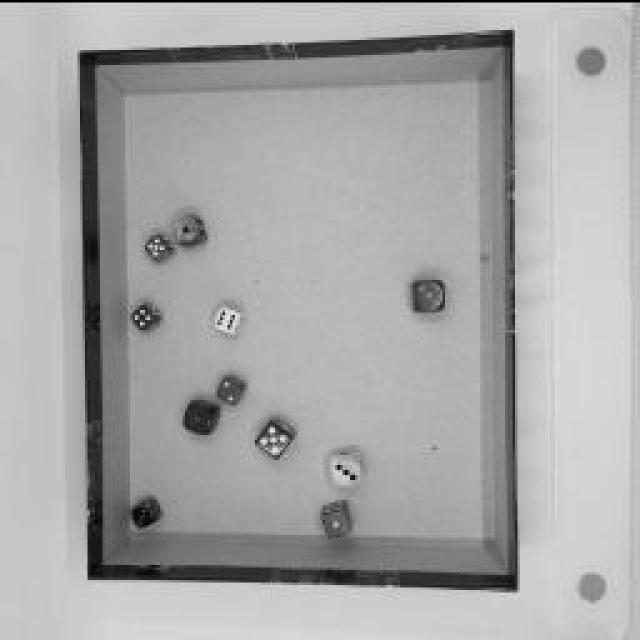dice_1: (181, 396, 224, 436), (170, 210, 210, 248), (322, 496, 356, 539)
dice_2: (215, 370, 250, 405)
dice_3: (329, 442, 366, 488), (410, 275, 448, 310), (130, 492, 165, 528)
dice_4: (130, 298, 165, 332)
dice_5: (252, 412, 298, 462), (145, 230, 175, 262)
dice_6: (211, 300, 249, 335)
